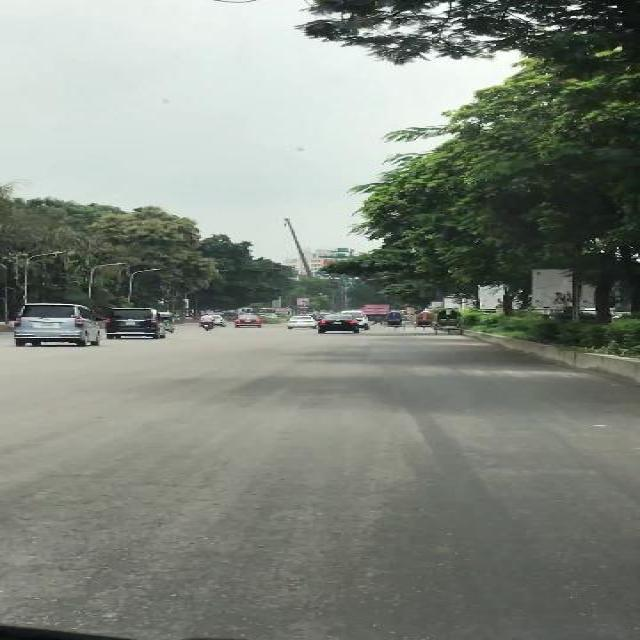car: (318, 313, 358, 333), (233, 313, 261, 327), (284, 315, 314, 328)
motorcycle: (432, 308, 462, 336), (411, 309, 434, 330), (382, 311, 404, 330), (199, 312, 213, 329)
truck: (11, 303, 98, 347), (101, 306, 160, 338)
